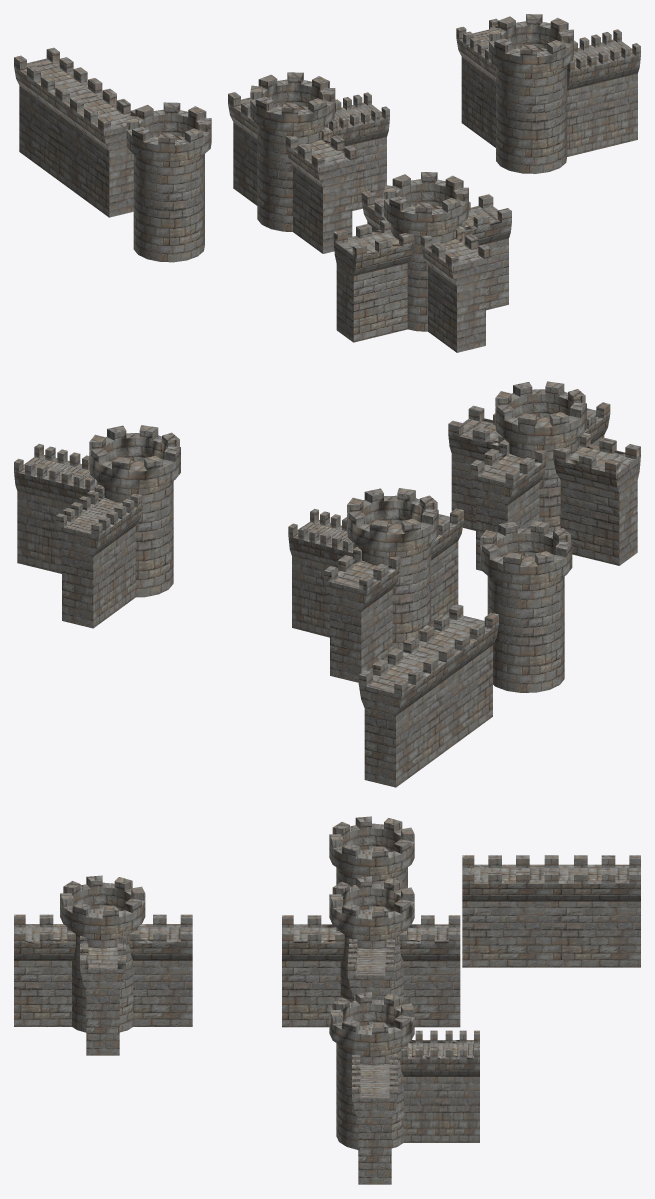
The model's file is Walls.glb.
The picture shows the model from 3 angles, top to bottom: view 1: azimuth 30°, elevation 25°; view 2: azimuth 150°, elevation 25°; view 3: azimuth 270°, elevation 25°; orthographic projection. The views are drawn at different scales.
Visible parts, largest first — view 1: Wall_T3, Wall_T1, Wall_T2, Wall_T0, pCylinder1; view 2: Wall_T3, Wall_T1, Wall_T2, Wall_T0, pCylinder1; view 3: Wall_T3, Wall_T1, Wall_T2, Wall_T0, pCylinder1.
Part boxes in pixels (x1,y1,x2,y2): Wall_T3: [333, 172, 511, 352]; Wall_T1: [456, 14, 640, 173]; Wall_T2: [228, 72, 389, 253]; Wall_T0: [14, 47, 135, 217]; pCylinder1: [126, 102, 211, 262]; Wall_T3: [448, 381, 640, 570]; Wall_T1: [14, 425, 180, 628]; Wall_T2: [288, 488, 463, 682]; Wall_T0: [358, 604, 498, 787]; pCylinder1: [480, 520, 572, 692]; Wall_T3: [14, 875, 192, 1055]; Wall_T1: [329, 992, 479, 1184]; Wall_T2: [282, 876, 460, 1027]; Wall_T0: [462, 855, 640, 967]; pCylinder1: [329, 816, 414, 888].
Size of the model in its own units: 4.28 by 1.04 by 4.69.
10 materials, 10 textured.
